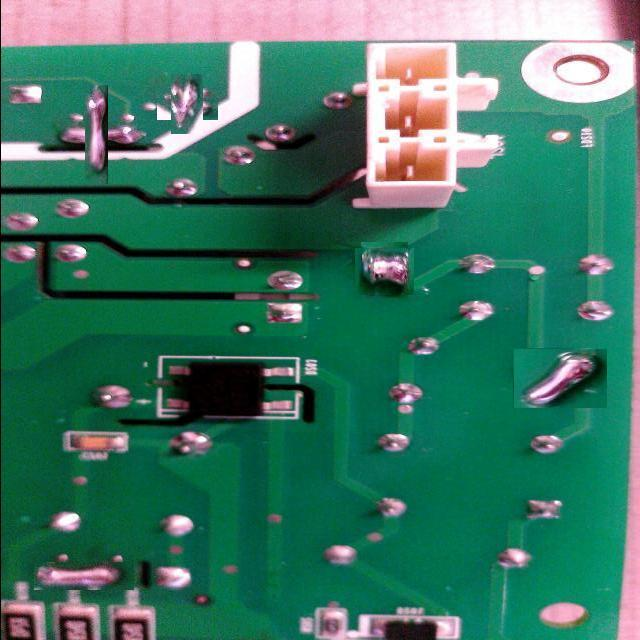Short_circuit: (514, 348, 608, 408), (66, 104, 127, 165), (358, 245, 411, 299), (34, 562, 134, 590), (164, 81, 211, 127)
